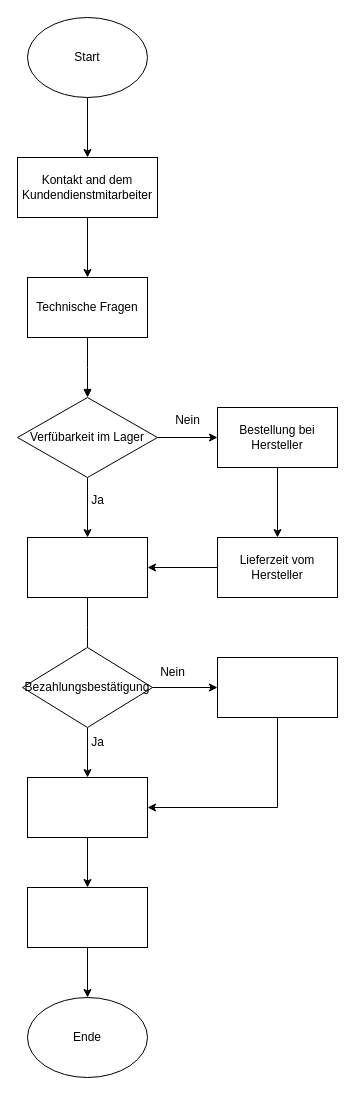
This 355x1095 diagram has some shape labels left out. The shapes that lost their labels are listed below. From the top down, each one's box as (x1, y1, x2, y2) in pixels, then its label:
(26, 536, 148, 598): Kosten/Lieferzeit besprechen
(216, 656, 338, 718): Buchhaltung Rechnung vorbereiten
(26, 776, 148, 838): Lagerist bereitet die Bestellung vor
(26, 886, 148, 948): Bestellbestätigung versenden
